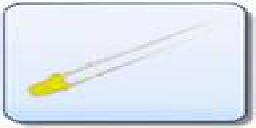LED: (26, 71, 86, 99)
